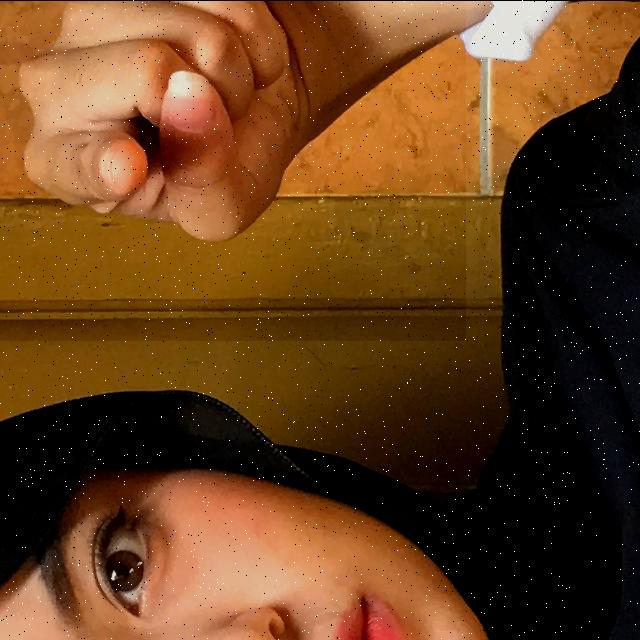kamu: (0, 0, 466, 340)
